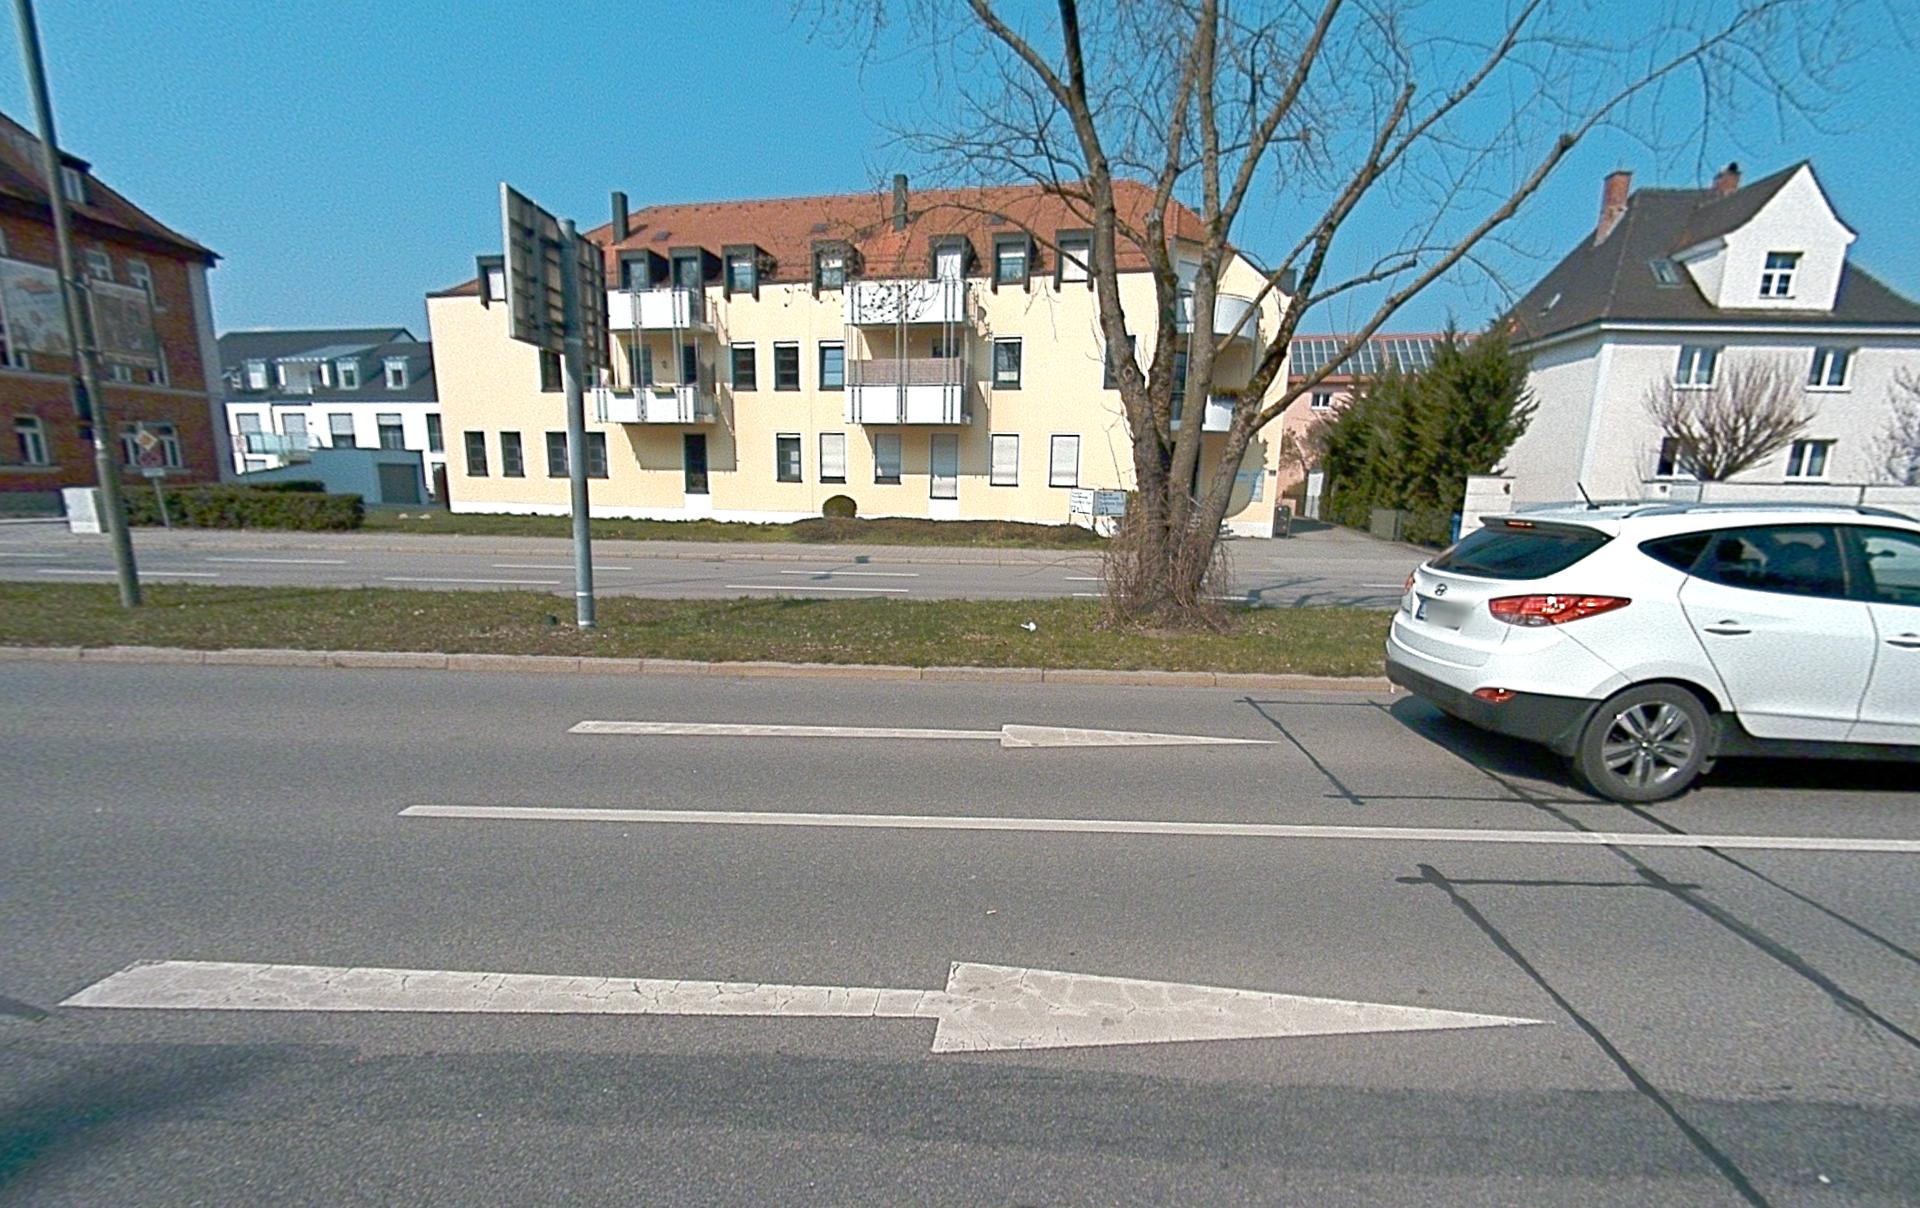car: (1386, 505, 1919, 802)
